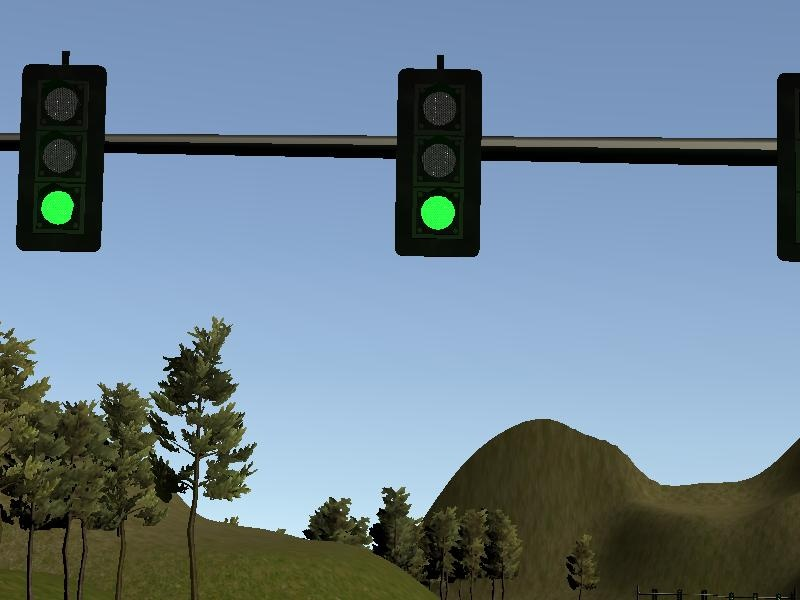green: (21, 63, 103, 254), (398, 71, 480, 262)
